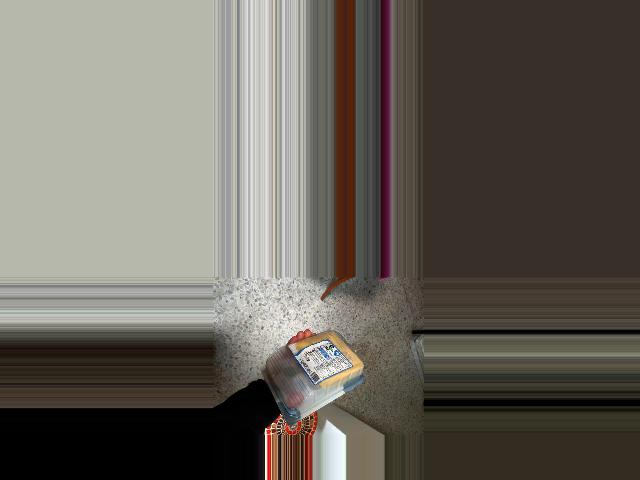cheese: (257, 322, 370, 431)
